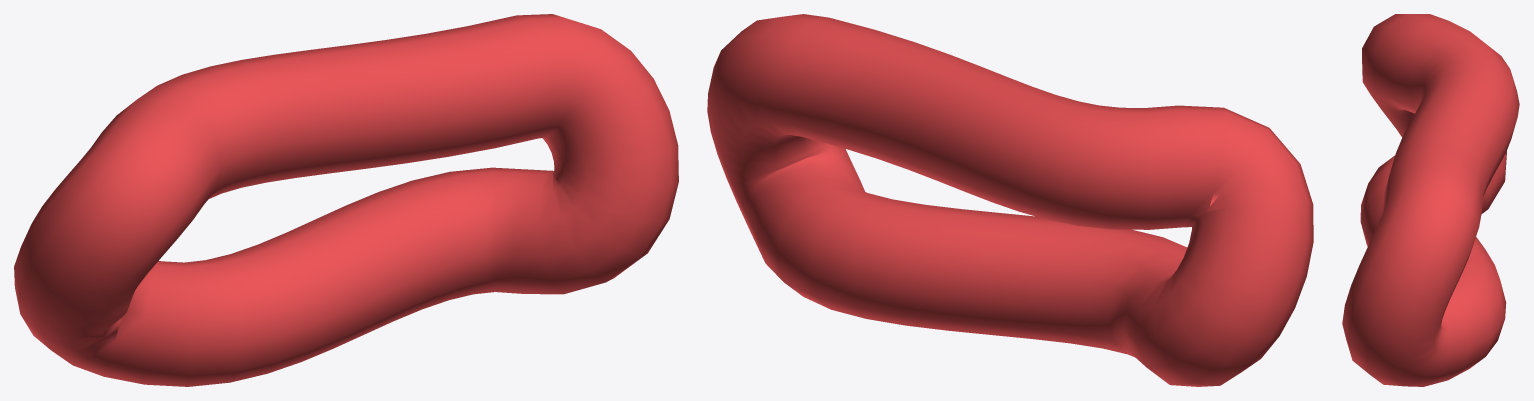
Rendered from lips.glb.
3 views of the same model, side by side, from view 1: azimuth 30°, elevation 25°; view 2: azimuth 150°, elevation 25°; view 3: azimuth 270°, elevation 25° (orthographic). The views are drawn at different scales.
Parts seen in each view (by area): view 1: BezierCurve; view 2: BezierCurve; view 3: BezierCurve.
Part boxes in pixels (x1=…): BezierCurve: x1=14, y1=14, x2=678, y2=386; BezierCurve: x1=707, y1=14, x2=1313, y2=386; BezierCurve: x1=1342, y1=14, x2=1519, y2=386.
Size of the model in its own units: 3.31 by 1.37 by 1.04.
